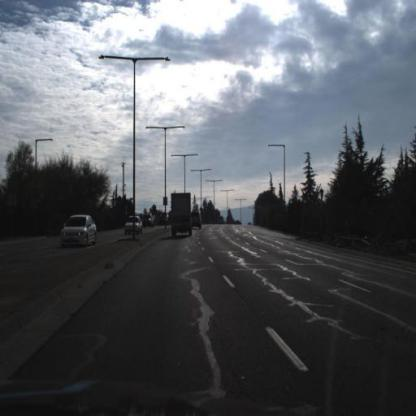car: (58, 210, 101, 250), (123, 211, 143, 235), (141, 207, 159, 233), (124, 214, 142, 236), (191, 205, 204, 233), (192, 212, 203, 230), (143, 212, 153, 228), (161, 214, 169, 226), (218, 216, 226, 228)
truck: (172, 194, 193, 238)
